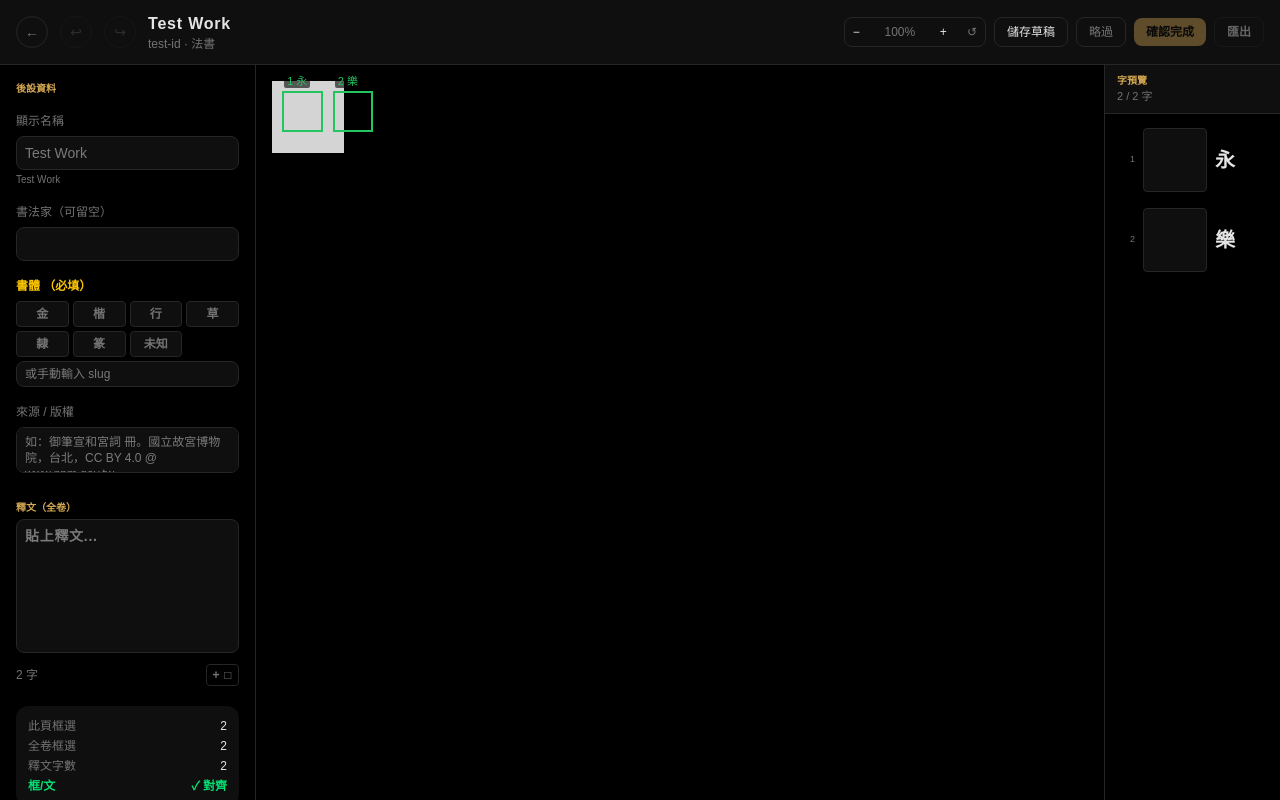
Test: saveDraft – network error handling › shows a failure message and does not throw when fetch rejects
The width and height of the screenshot is (1280, 800).
Click the button "儲存草稿".
click(1031, 32)  # box x1=994 y1=17 x2=1068 y2=47
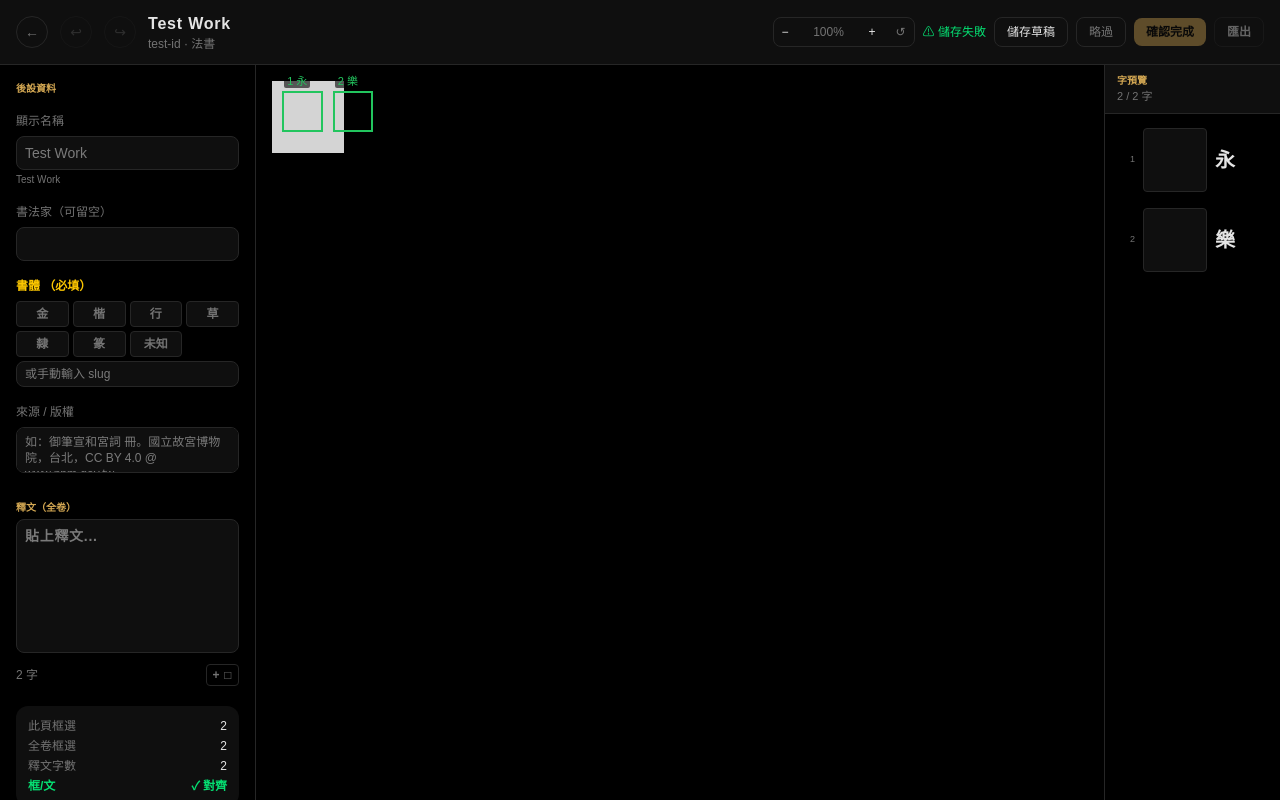
Now the text "⚠ 儲存失敗" is shown, box x1=923 y1=24 x2=986 y2=40
